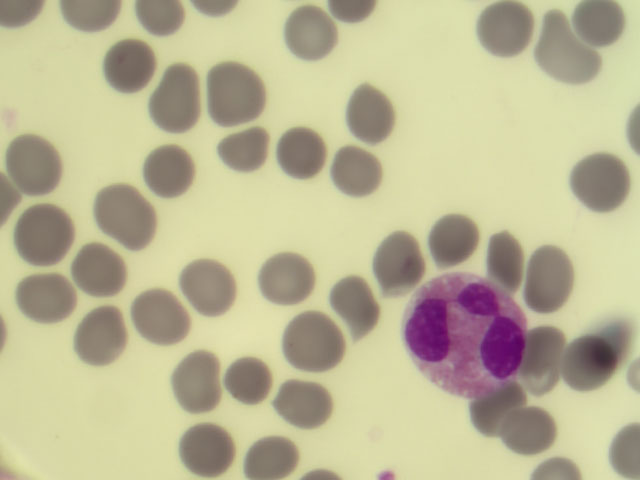Platelets: (370, 470, 421, 480)
RBC: (3, 131, 66, 194), (20, 201, 83, 264), (17, 267, 80, 330), (63, 234, 126, 297), (87, 188, 150, 251), (136, 141, 199, 204), (152, 77, 215, 140), (110, 41, 173, 104), (205, 61, 268, 124), (211, 116, 274, 179), (273, 116, 336, 179), (328, 141, 391, 204), (343, 84, 406, 147), (326, 268, 389, 331), (372, 224, 435, 287), (251, 243, 314, 306), (281, 306, 344, 369), (273, 372, 336, 435), (216, 350, 279, 413), (172, 351, 235, 414), (131, 282, 194, 345), (177, 254, 240, 317), (74, 300, 137, 363), (173, 414, 236, 477), (241, 417, 304, 480), (499, 417, 562, 480), (480, 376, 543, 439), (516, 323, 579, 386), (559, 332, 622, 395), (521, 246, 584, 309), (473, 225, 536, 288), (422, 197, 485, 260), (568, 150, 631, 213), (525, 15, 588, 78), (474, 4, 537, 67), (284, 2, 347, 65), (568, 1, 631, 63)
WBC: (403, 271, 530, 396)
